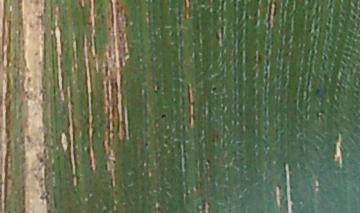tarspot: (156, 109, 172, 124), (207, 84, 221, 95)
